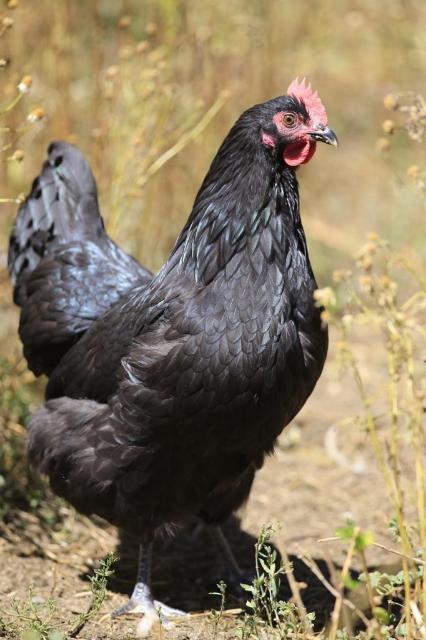Chicken: (10, 78, 341, 624)
